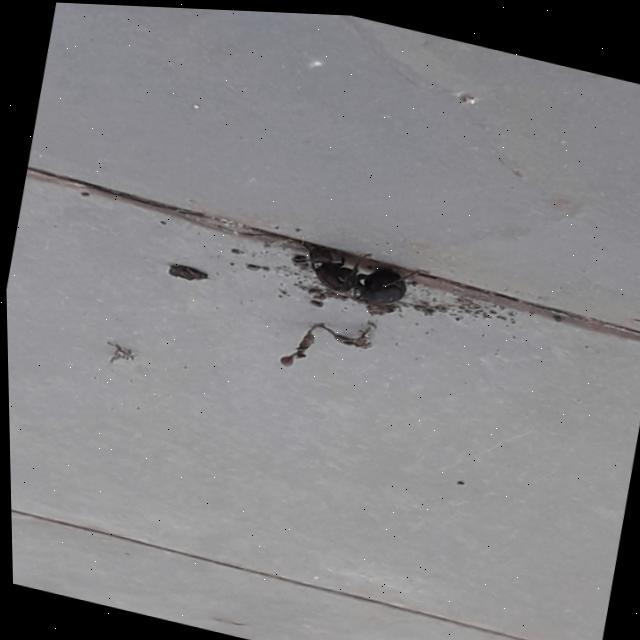Alive-Female-Dealate: (287, 233, 431, 313)
